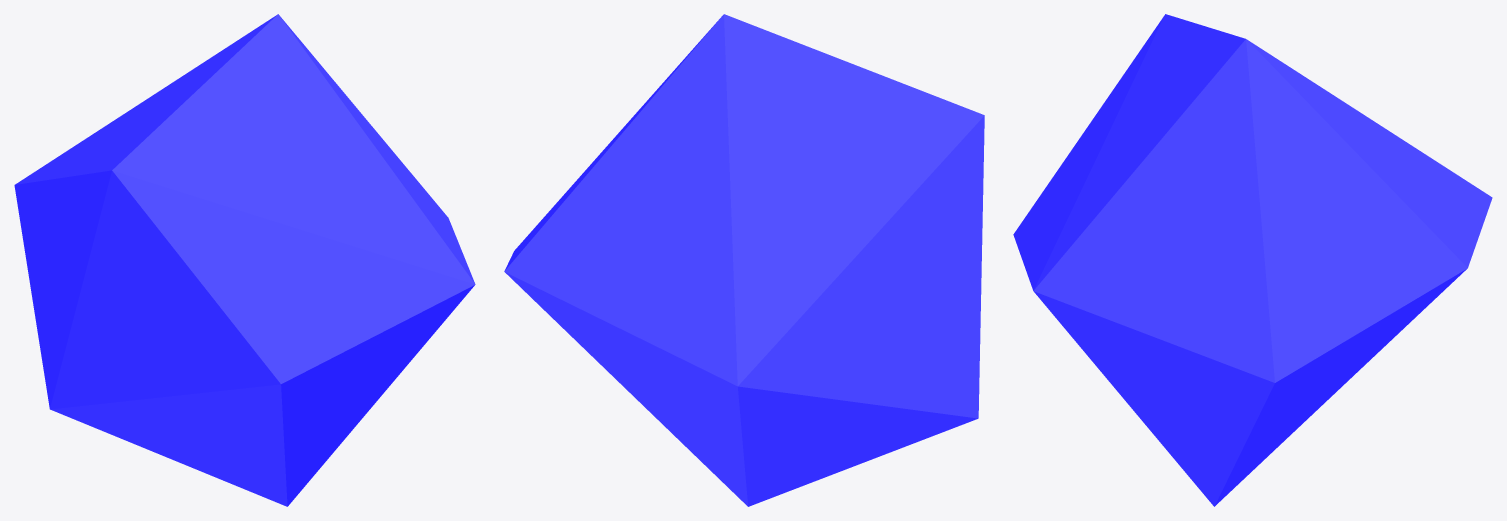
Rendered from ice ball.fbx.
3 renders of one model, left to right at view 1: azimuth 30°, elevation 25°; view 2: azimuth 150°, elevation 25°; view 3: azimuth 270°, elevation 25°, orthographic. The views are drawn at different scales.
Visible parts, largest first — view 1: Sphere; view 2: Sphere; view 3: Sphere.
Boxes of the visible parts, x1,y1,x2,y2 form: Sphere: (14,14,475,506); Sphere: (504,14,984,506); Sphere: (1013,14,1492,506).
Bounding box in the file's own units: 46.96 × 51.17 × 47.16.
